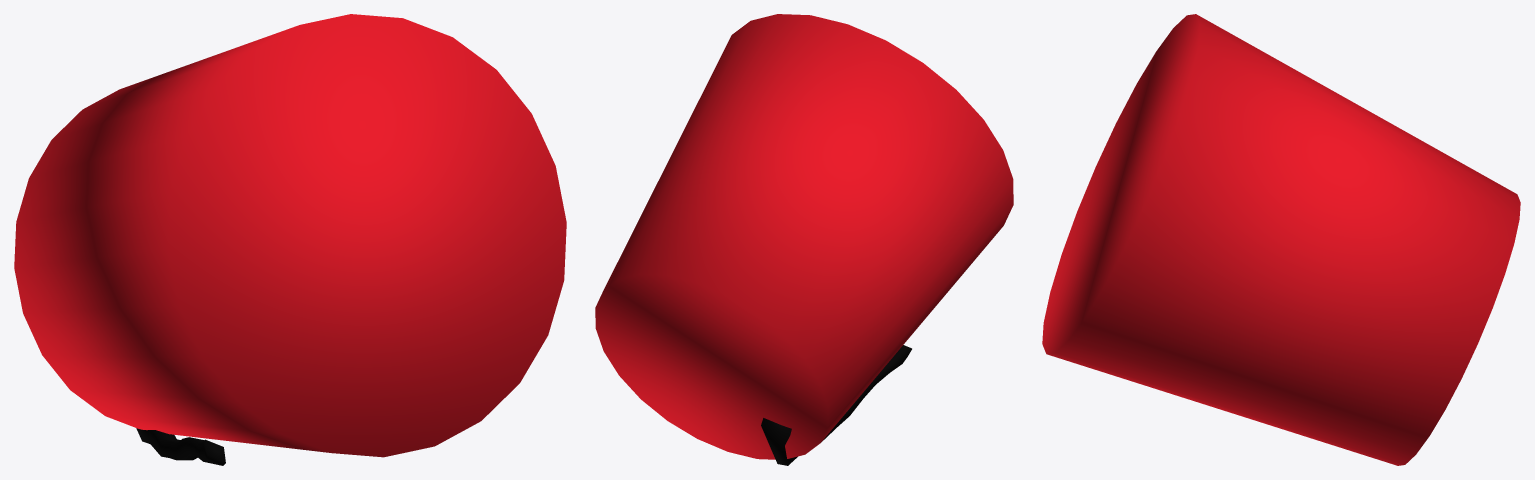
Rendered from FezHat.fbx.
The picture shows the model from 3 angles, left to right: view 1: azimuth 30°, elevation 25°; view 2: azimuth 150°, elevation 25°; view 3: azimuth 270°, elevation 25°; orthographic projection. The views are drawn at different scales.
Parts seen in each view (by area): view 1: Cylinder; view 2: Cylinder; view 3: Cylinder.
Boxes of the visible parts, box(x1,y1,x2,y2) form: Cylinder: box(14, 14, 566, 465); Cylinder: box(595, 14, 1013, 465); Cylinder: box(1042, 14, 1520, 465).
Size of the model in its own units: 47.93 by 59.46 by 62.03.
